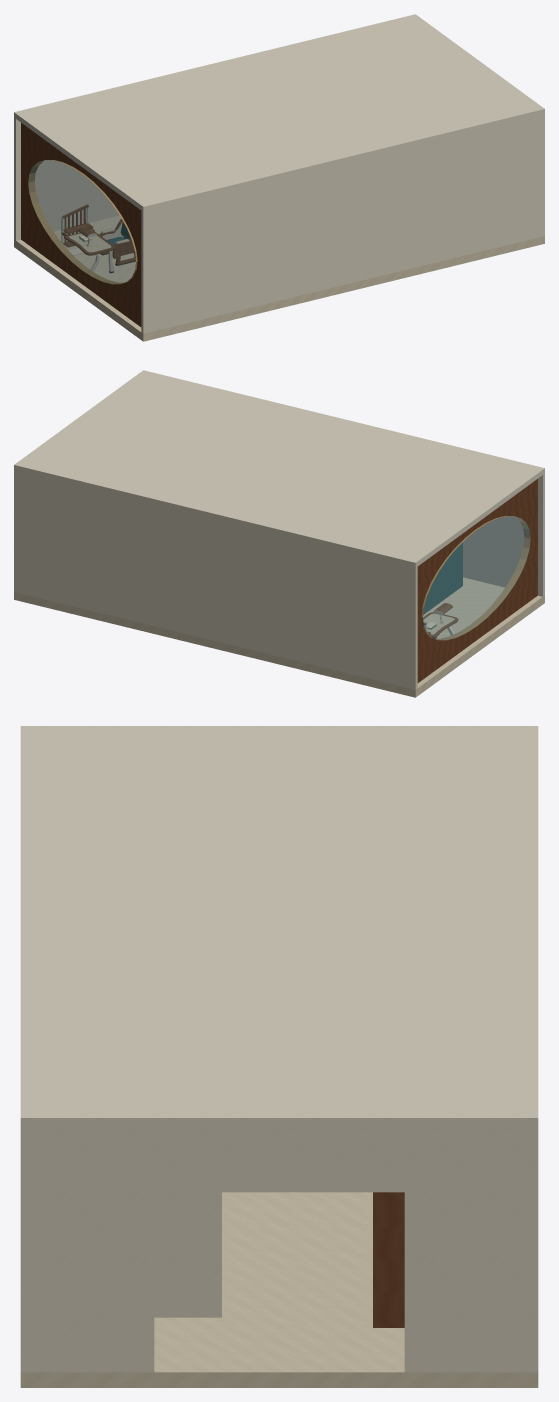
Rendered from QuietGroveSpecialty_397_r001.glb.
The picture shows the model from 3 angles, top to bottom: view 1: azimuth 30°, elevation 25°; view 2: azimuth 150°, elevation 25°; view 3: azimuth 270°, elevation 25°; orthographic projection. The views are drawn at different scales.
Parts seen in each view (by area): view 1: QG397_Ceiling, QG397_SouthSide, QG397_OvalAtriumGlass, QG397_RoomFloor, QG397_OvalWindowReveal, QG397_NorthSide, QG397_OvalDepthReturn; view 2: QG397_Ceiling, QG397_NorthSide, QG397_OvalAtriumGlass, QG397_RoomFloor, QG397_OvalWindowReveal, QG397_SouthSide, QG397_OvalDepthReturn, QG397_Cocoon02_RearLiner; view 3: QG397_Ceiling, QG397_RoomFloor, QG397_EntryShoulderNorth, QG397_EntryShoulderSouth, QG397_EntryHeader, QG397_WashEntrySide, QG397_EntryPrivacyDogleg, QG397_NorthSide, QG397_SouthSide.
Part boxes in pixels (box(x1,y1,x2,y2)): QG397_Ceiling: box(14, 14, 544, 211); QG397_SouthSide: box(141, 114, 544, 333); QG397_OvalAtriumGlass: box(28, 160, 135, 283); QG397_RoomFloor: box(14, 215, 544, 341); QG397_OvalWindowReveal: box(21, 123, 141, 326); QG397_NorthSide: box(14, 117, 119, 240); QG397_OvalDepthReturn: box(28, 160, 137, 284); QG397_Ceiling: box(14, 370, 544, 567); QG397_NorthSide: box(14, 470, 417, 689); QG397_OvalAtriumGlass: box(423, 516, 530, 639); QG397_RoomFloor: box(14, 577, 544, 697); QG397_OvalWindowReveal: box(417, 479, 537, 682); QG397_SouthSide: box(463, 473, 544, 596); QG397_OvalDepthReturn: box(421, 516, 530, 640); QG397_Cocoon02_RearLiner: box(423, 544, 461, 614); QG397_Ceiling: box(20, 726, 538, 1128); QG397_RoomFloor: box(20, 1192, 538, 1387); QG397_EntryShoulderNorth: box(404, 1128, 529, 1372); QG397_EntryShoulderSouth: box(29, 1128, 154, 1372); QG397_EntryHeader: box(150, 1128, 408, 1192); QG397_WashEntrySide: box(154, 1192, 221, 1317); QG397_EntryPrivacyDogleg: box(373, 1192, 404, 1327); QG397_NorthSide: box(529, 1128, 538, 1372); QG397_SouthSide: box(20, 1128, 29, 1372).
Bounding box in the file's own units: 12.9 × 4.14 × 7.2.
67 materials, 43 textured.
